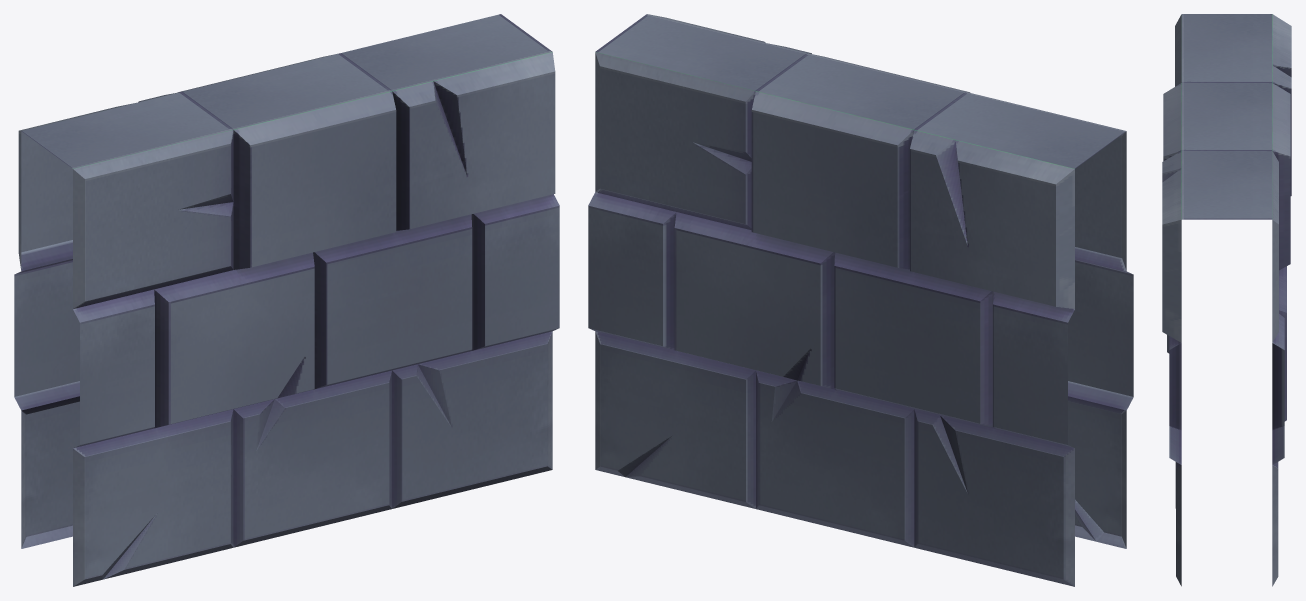
The model's file is wall3.fbx.
3 renders of one model, left to right at view 1: azimuth 30°, elevation 25°; view 2: azimuth 150°, elevation 25°; view 3: azimuth 270°, elevation 25°, orthographic. The views are drawn at different scales.
Visible parts, largest first — view 1: ModularAssetsDisplay.008; view 2: ModularAssetsDisplay.008; view 3: ModularAssetsDisplay.008.
Boxes of the visible parts, x1,y1,x2,y2 form: ModularAssetsDisplay.008: [14, 14, 559, 586]; ModularAssetsDisplay.008: [588, 14, 1133, 586]; ModularAssetsDisplay.008: [1162, 14, 1291, 586].
Bounding box in the file's own units: 100 × 83.26 × 26.51.
